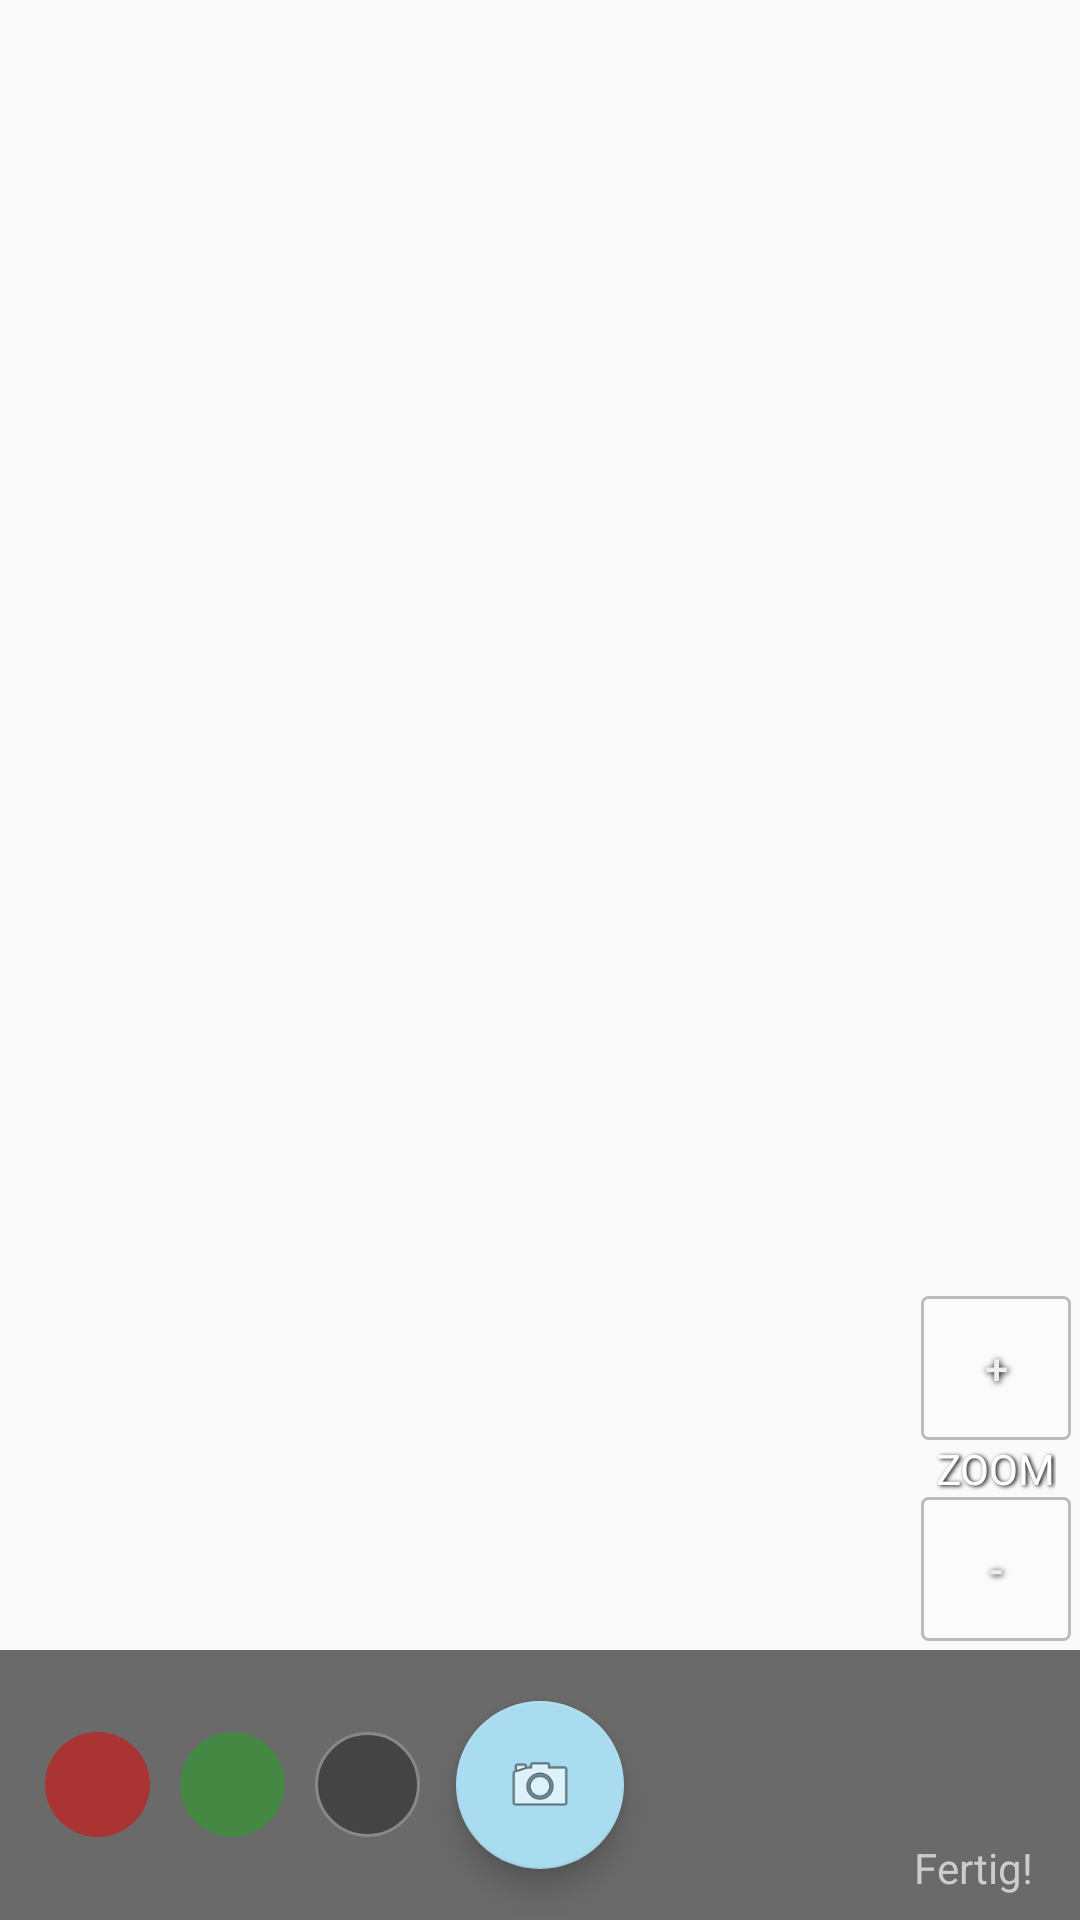

Screen size 1080 × 1920. Icon name, then its box in pixels as (x1, y1, x2, y2):
camera: (456, 1701, 624, 1869)
